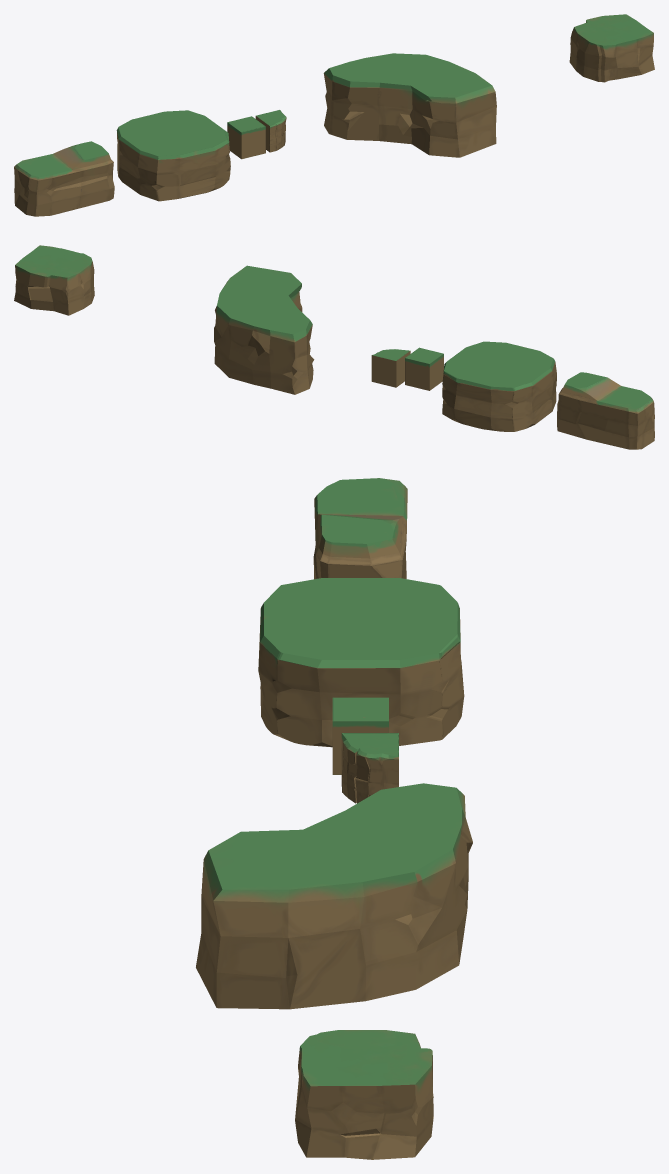
Rendered from Map2_environment_V2.fbx.
The picture shows the model from 3 angles, top to bottom: view 1: azimuth 30°, elevation 25°; view 2: azimuth 150°, elevation 25°; view 3: azimuth 270°, elevation 25°; orthographic projection. The views are drawn at different scales.
Parts seen in each view (by area): view 1: Plane, Cliff_4, Cliff_3, Cliff_5, Cliff_2, Cliff_1; view 2: Plane, Cliff_4, Cliff_3, Cliff_5, Cliff_2, Cliff_1; view 3: Plane, Cliff_4, Cliff_5, Cliff_3, Cliff_1, Cliff_2.
Boxes of the visible parts, left/top/right/bottom form: Plane: left=323, top=53, right=496, bottom=157; Cliff_4: left=116, top=110, right=230, bottom=201; Cliff_3: left=14, top=141, right=114, bottom=216; Cliff_5: left=569, top=14, right=654, bottom=82; Cliff_2: left=227, top=116, right=265, bottom=159; Cliff_1: left=255, top=110, right=286, bottom=152; Plane: left=214, top=265, right=314, bottom=394; Cliff_4: left=442, top=341, right=556, bottom=431; Cliff_3: left=557, top=372, right=654, bottom=449; Cliff_5: left=14, top=245, right=94, bottom=315; Cliff_2: left=405, top=347, right=443, bottom=390; Cliff_1: left=371, top=349, right=410, bottom=387; Plane: left=196, top=783, right=472, bottom=1009; Cliff_4: left=258, top=578, right=464, bottom=747; Cliff_5: left=295, top=1030, right=433, bottom=1159; Cliff_3: left=313, top=478, right=407, bottom=579; Cliff_1: left=341, top=733, right=398, bottom=803; Cliff_2: left=332, top=697, right=388, bottom=774.
Size of the model in its own units: 5086 by 457 by 983.
Materials: 6 (6 with a texture image).
